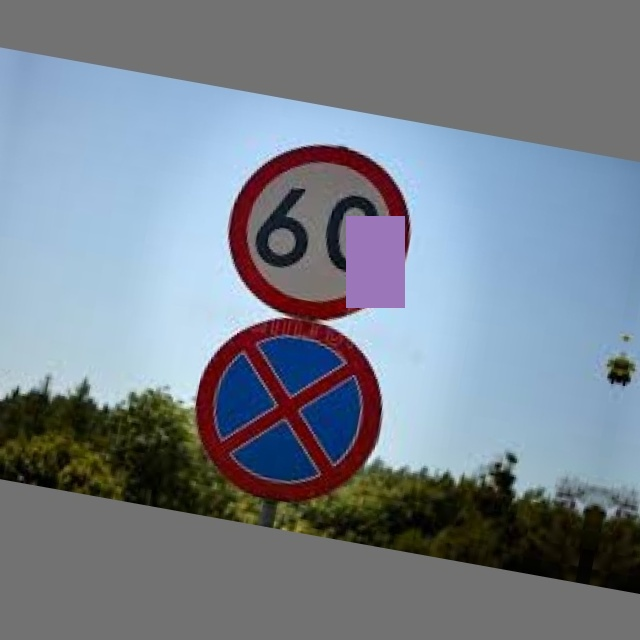Speed_Limit_60: (219, 131, 421, 334)
